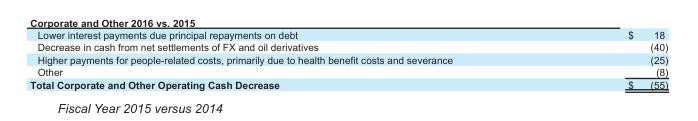table: (29, 28, 667, 89)
table column: (29, 28, 539, 89), (539, 28, 667, 89)
table row: (29, 52, 667, 65), (29, 65, 667, 78), (29, 28, 667, 40), (29, 40, 667, 52), (29, 78, 667, 89)
